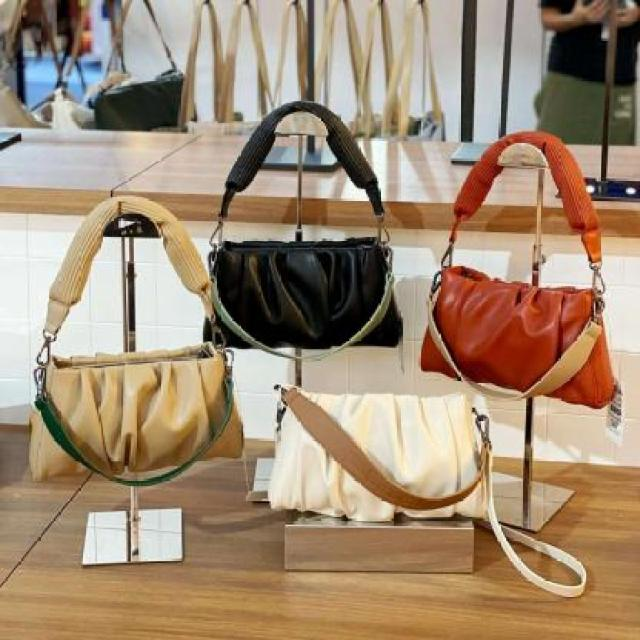Bag: (209, 356, 608, 607), (0, 149, 257, 491), (182, 60, 415, 380), (423, 110, 634, 444)
